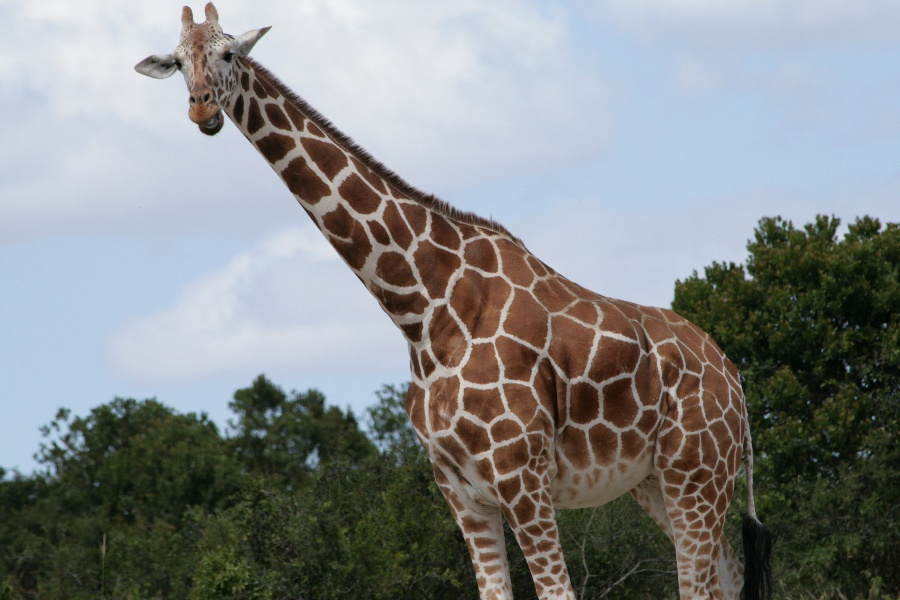giraffe: (126, 0, 783, 599)
